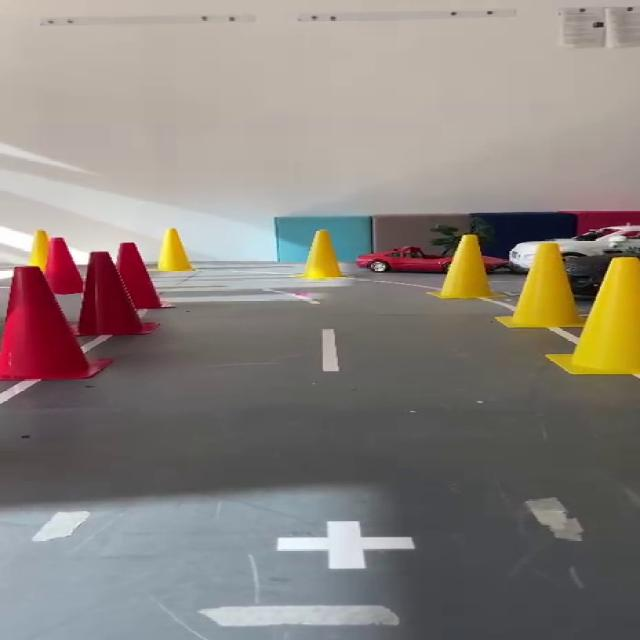Cone-red: (0, 267, 109, 380), (77, 252, 156, 335), (116, 242, 167, 308), (44, 237, 81, 295)
Cones-yellow: (546, 257, 639, 377), (499, 242, 583, 328), (437, 235, 498, 298), (299, 230, 342, 279), (159, 228, 192, 271), (29, 229, 48, 271)
